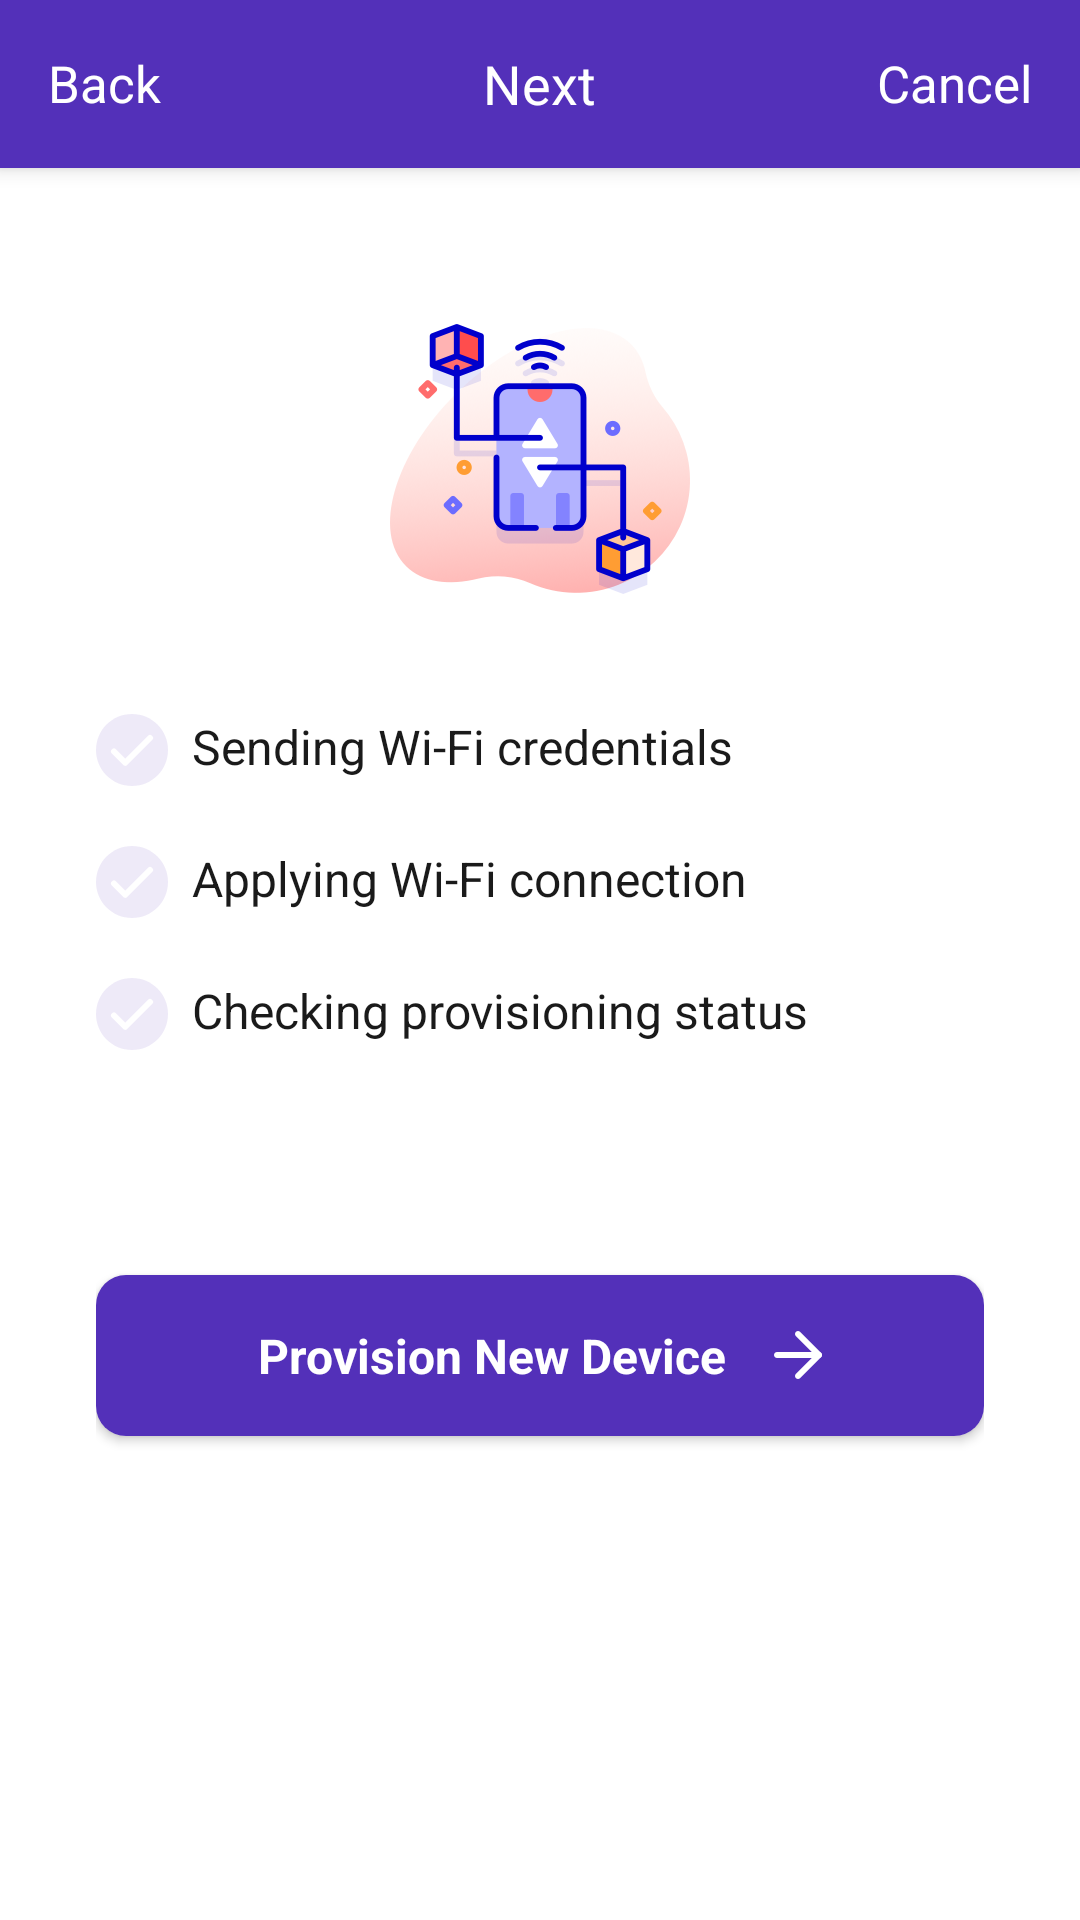

Screen size 1080 x 1920. Icon name, then its box in pixels as (x1, y1, x2, y2):
provisioning: (390, 324, 690, 593)
right arrow: (774, 1331, 822, 1379)
